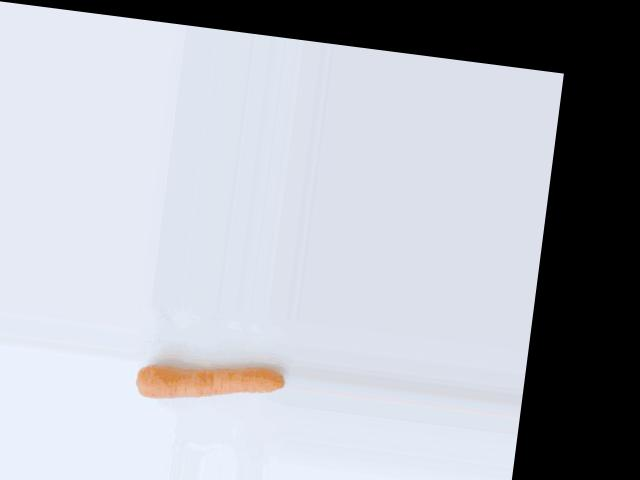carrot: (133, 350, 285, 414)
